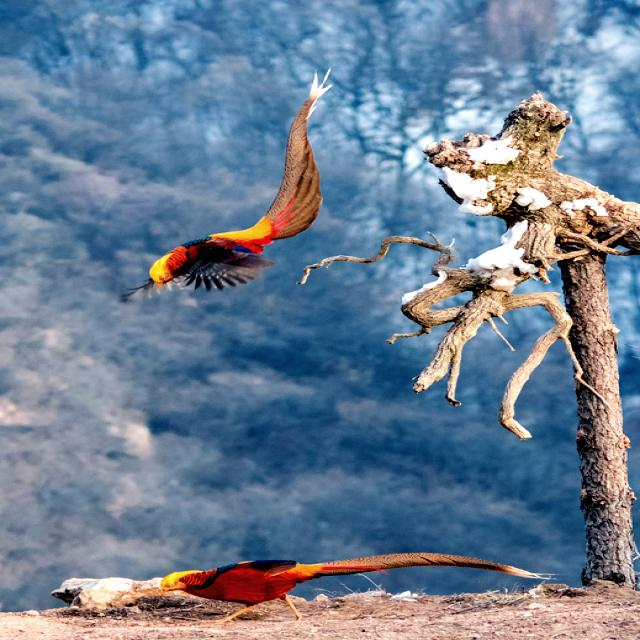Chrysolophus pictus feather: (266, 77, 326, 238), (319, 553, 530, 577)
